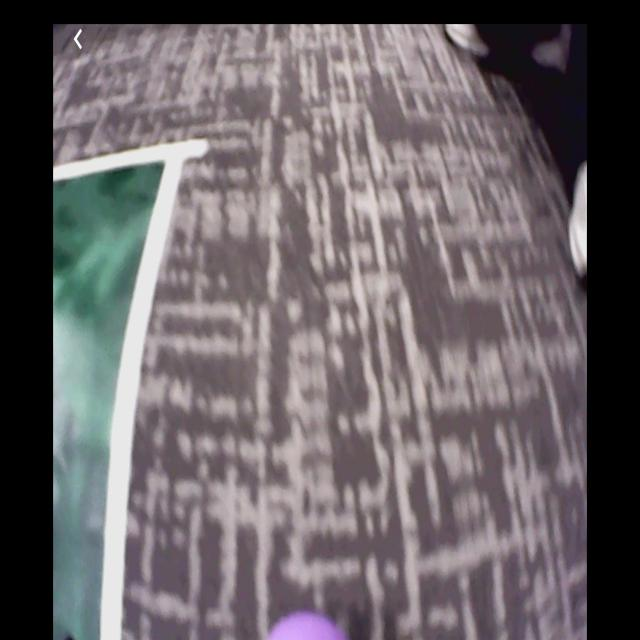ball: (265, 608, 350, 640)
